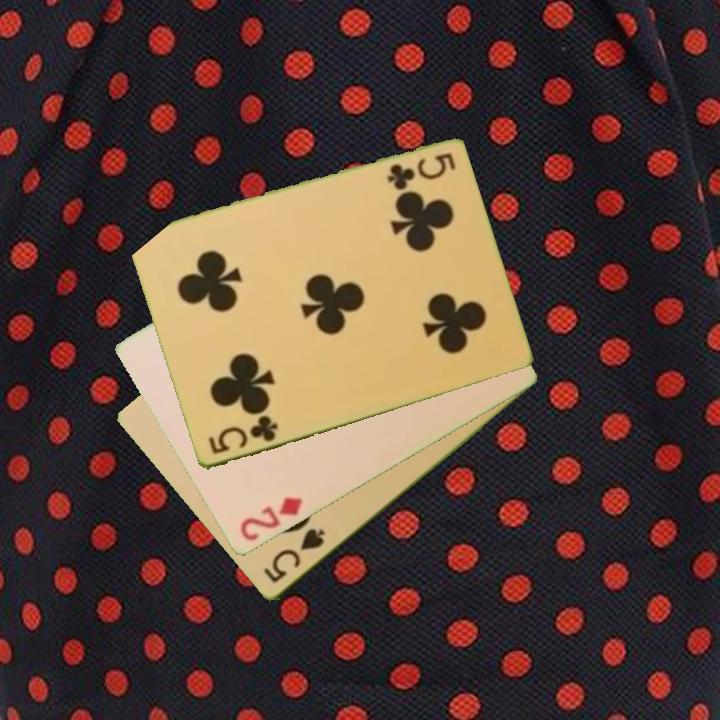2d: (236, 493, 305, 545)
5c: (204, 412, 281, 458), (383, 149, 458, 190)
5s: (260, 525, 329, 587)
